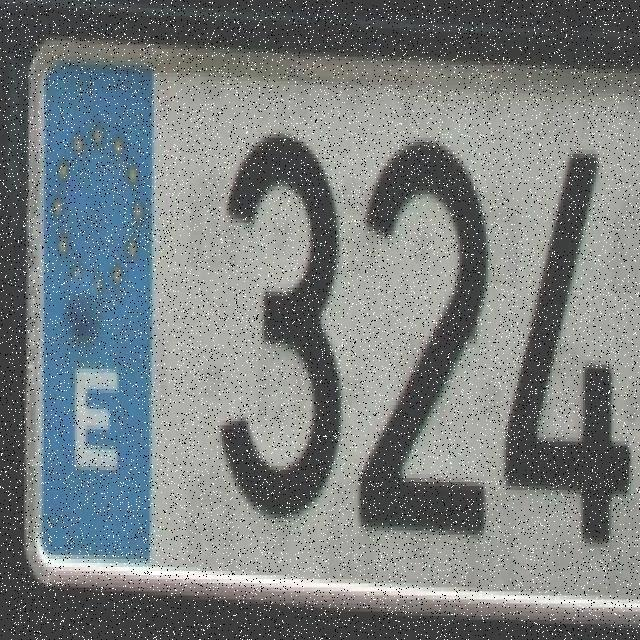license-plate: (26, 46, 640, 579)
